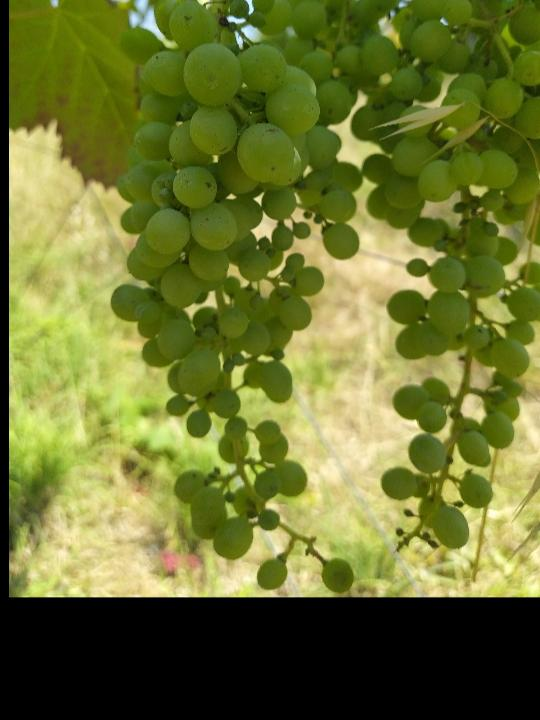grape: (105, 0, 360, 593)
